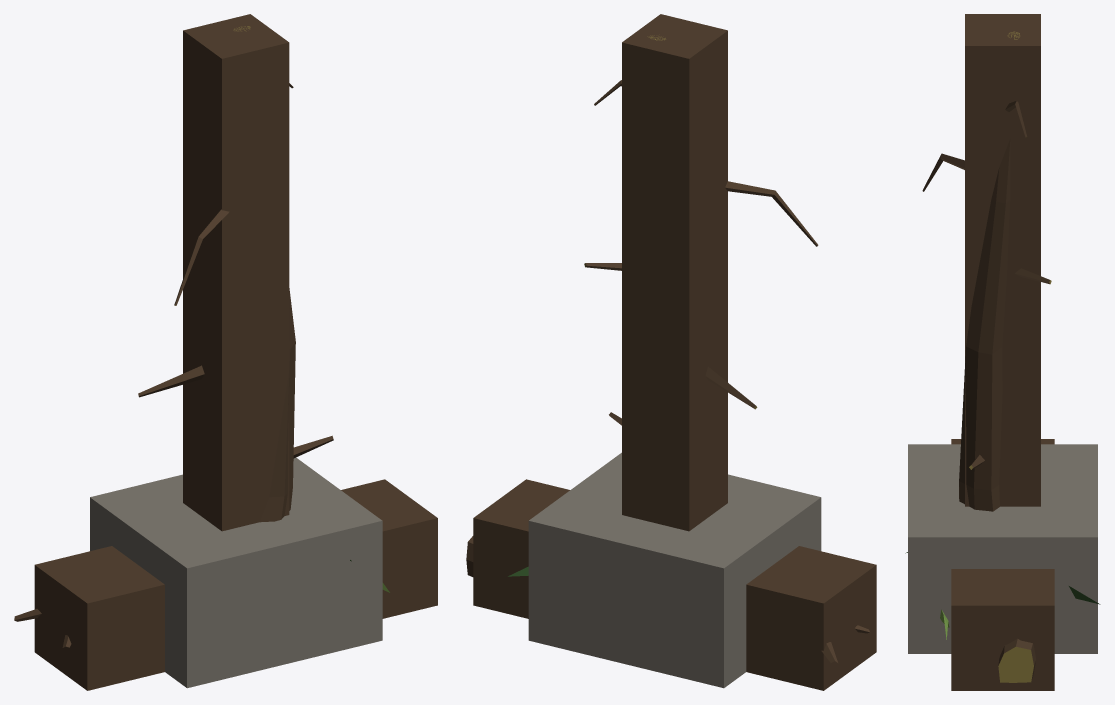
Rendered from props_forest.glb.
3 views of the same model, side by side, from view 1: azimuth 30°, elevation 25°; view 2: azimuth 150°, elevation 25°; view 3: azimuth 270°, elevation 25° (orthographic). The views are drawn at different scales.
Visible parts, largest first — view 1: col_Forest_DeadTree, col_Forest_Rock, col_Forest_FallenLog, Forest_DeadTree_LOD0; view 2: col_Forest_DeadTree, col_Forest_Rock, col_Forest_FallenLog, Forest_DeadTree_LOD0; view 3: col_Forest_DeadTree, col_Forest_Rock, Forest_DeadTree_LOD0, col_Forest_FallenLog, Forest_FallenLog_LOD0.
Part boxes in pixels (box(x1,y1,x2,y2)): col_Forest_DeadTree: box(183, 14, 289, 531); col_Forest_Rock: box(90, 457, 382, 688); col_Forest_FallenLog: box(34, 479, 437, 690); Forest_DeadTree_LOD0: box(138, 26, 333, 522); col_Forest_DeadTree: box(622, 14, 727, 531); col_Forest_Rock: box(528, 452, 821, 688); col_Forest_FallenLog: box(473, 479, 876, 690); Forest_DeadTree_LOD0: box(584, 35, 818, 425); col_Forest_DeadTree: box(965, 14, 1040, 506); col_Forest_Rock: box(908, 444, 1097, 653); Forest_DeadTree_LOD0: box(922, 31, 1051, 511); col_Forest_FallenLog: box(951, 439, 1054, 690); Forest_FallenLog_LOD0: box(998, 638, 1036, 682).
Size of what is drawn, in the model's own units: 2.86 by 4.2 by 1.29.
